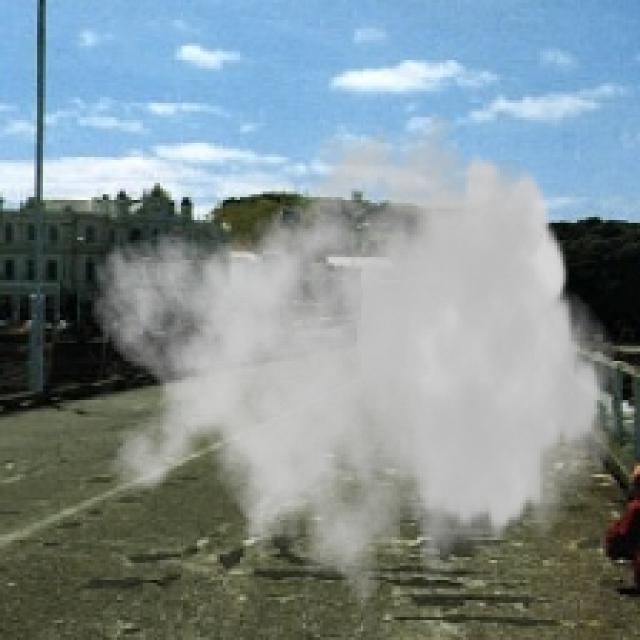smoke: (89, 103, 620, 637)
